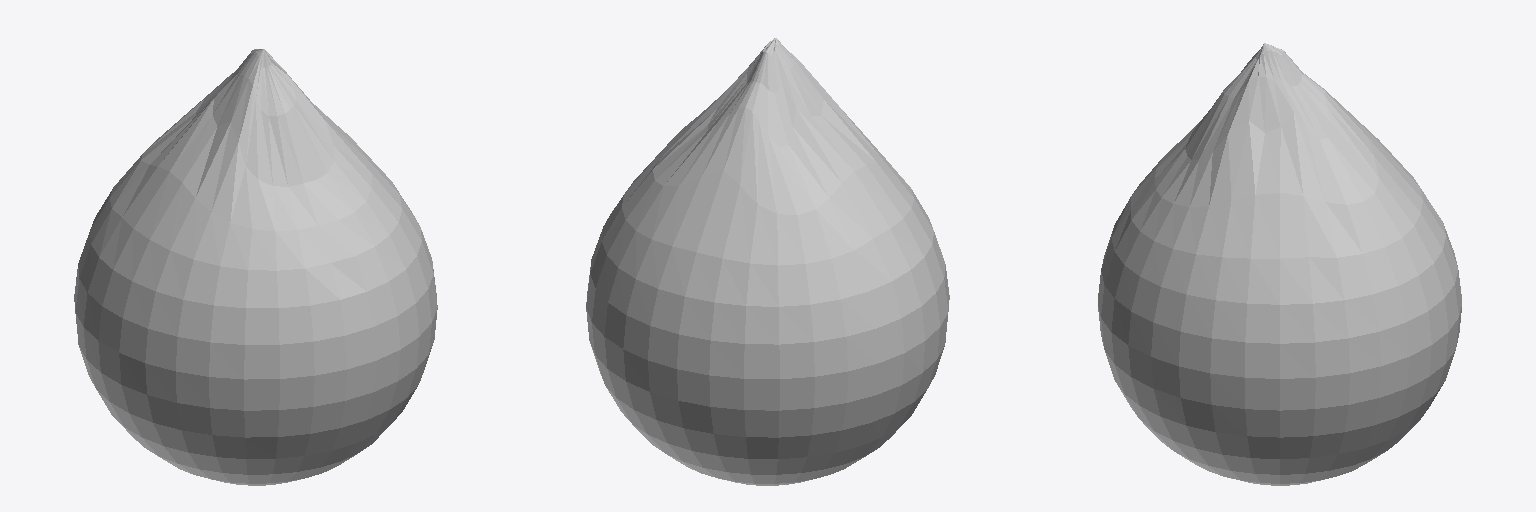
Rendered from strawberry.obj.
3 views of the same model, side by side, from view 1: azimuth 30°, elevation 25°; view 2: azimuth 150°, elevation 25°; view 3: azimuth 270°, elevation 25° (orthographic).
Parts seen in each view (by area): view 1: Sphere_Sphere.001; view 2: Sphere_Sphere.001; view 3: Sphere_Sphere.001.
Part boxes in pixels (x1,y1,x2,y2): Sphere_Sphere.001: (74,49,437,485); Sphere_Sphere.001: (586,38,949,485); Sphere_Sphere.001: (1098,43,1461,485).
Bounding box in the file's own units: 1.99 × 2.57 × 2.